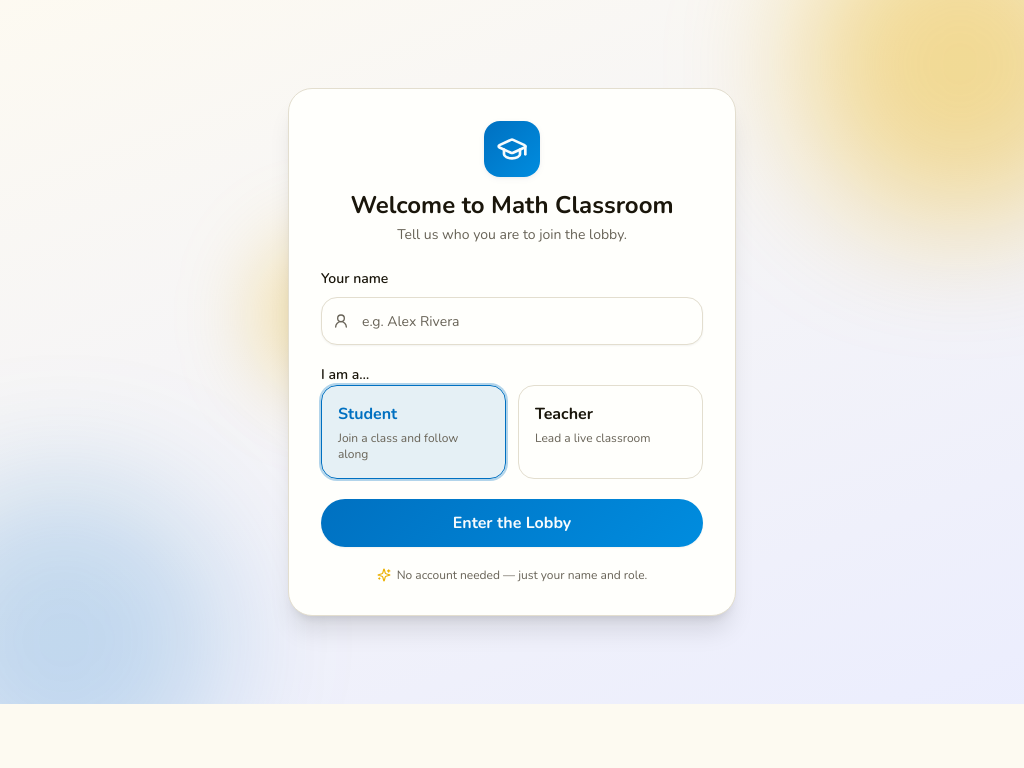
Test case: LoginPage › shows an inline error for an empty name and does not sign in
Click the button "Enter the Lobby".
click(512, 523)  # box [321,499,703,547]
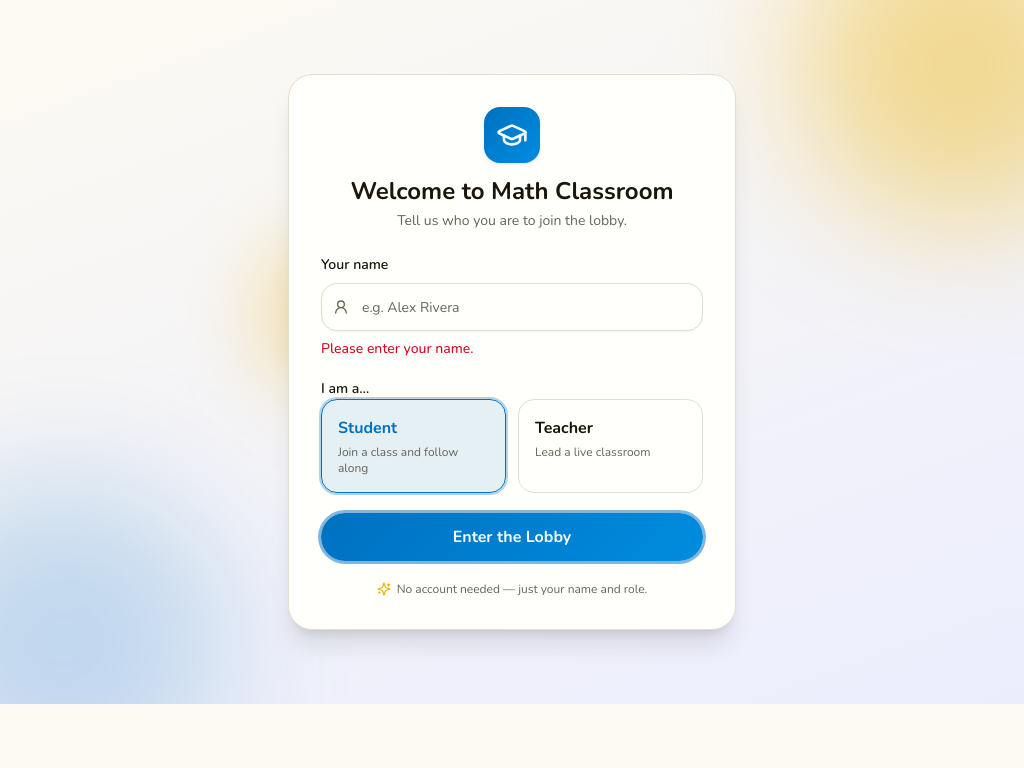
Check: the text "Please enter your name." is shown, box [321,339,474,358]
